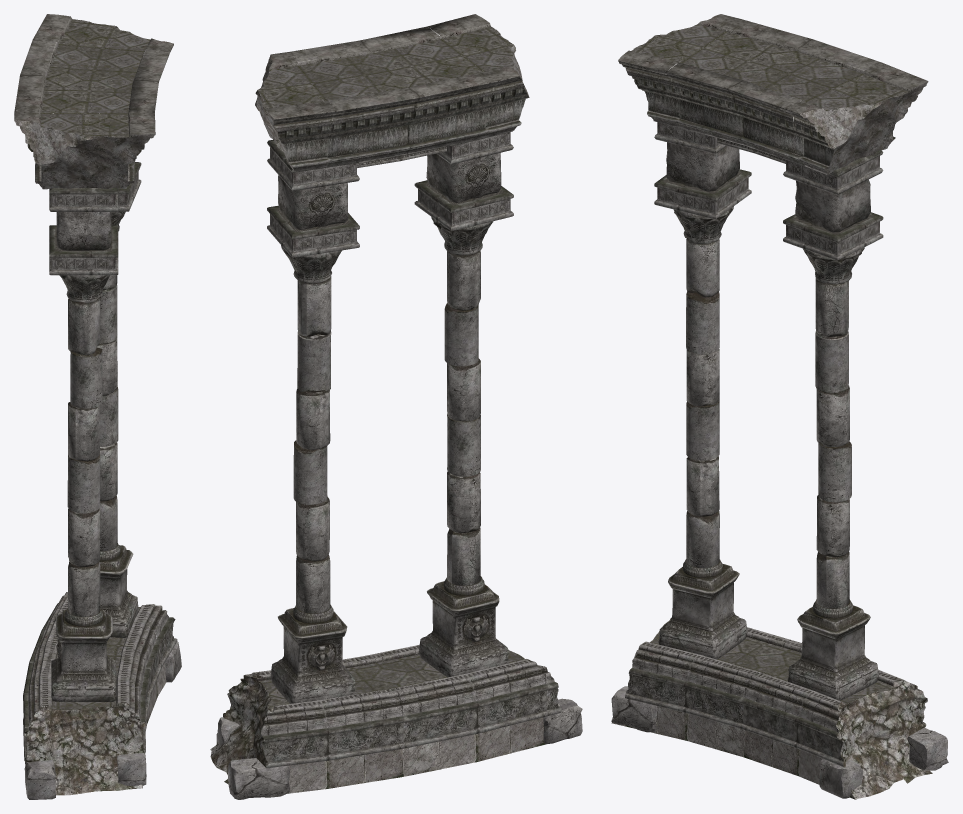
The model's file is eso_ss4_column2-transformed.glb.
3 renders of one model, left to right at view 1: azimuth 30°, elevation 25°; view 2: azimuth 150°, elevation 25°; view 3: azimuth 270°, elevation 25°, orthographic. The views are drawn at different scales.
Parts seen in each view (by area): view 1: default; view 2: default; view 3: default.
Boxes of the visible parts, x1,y1,x2,y2 form: default: (14,14,181,799); default: (210,14,582,799); default: (611,14,948,799).
Size of the model in its own units: 13.59 by 33.66 by 15.25.
7 materials, 7 textured.
